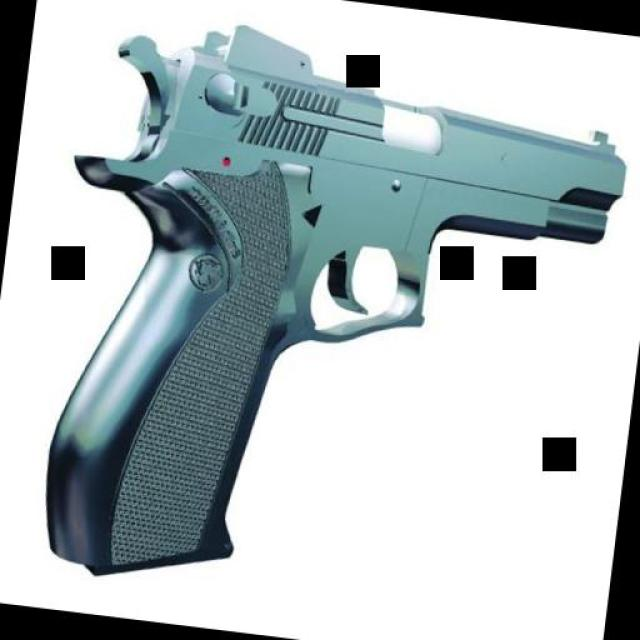gun: (23, 5, 636, 635)
